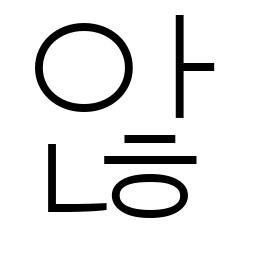Gaji: (157, 47, 204, 91)
